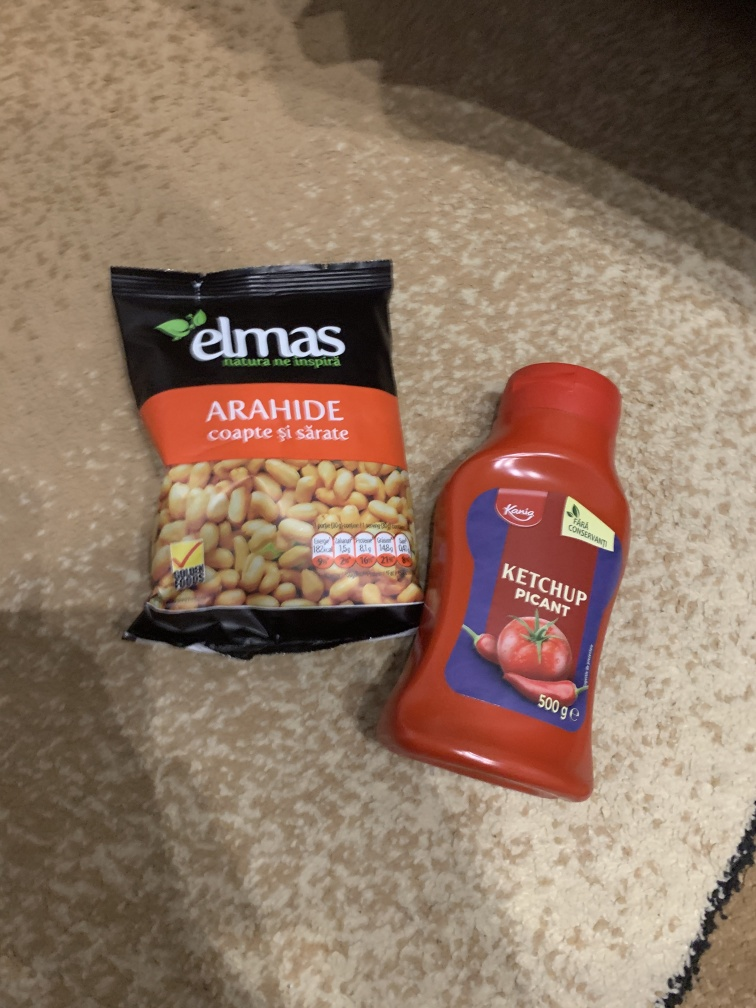ketchup: (378, 359, 636, 811)
peanuts: (107, 256, 425, 677)
